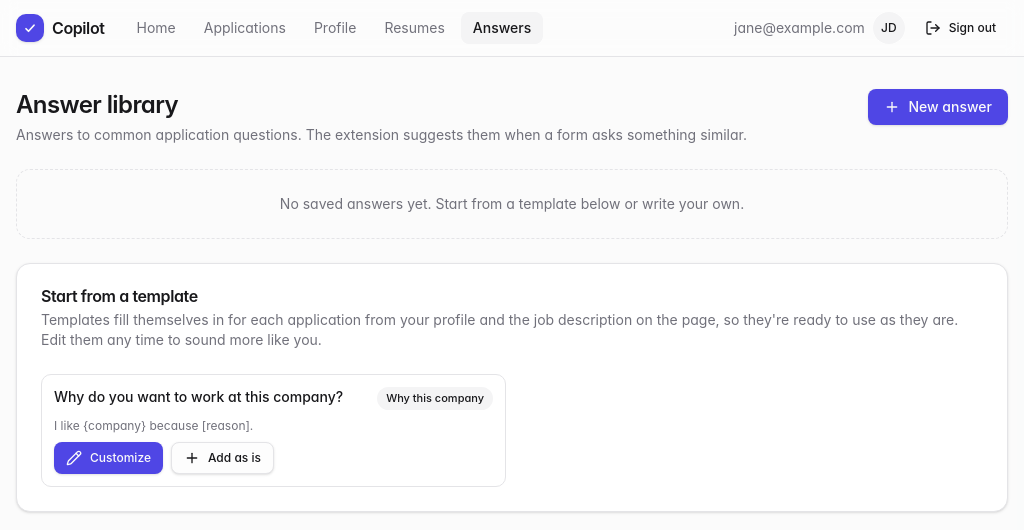
Test case: answer library › adds a template as is
Expected: the text "No saved answers yet. Start from a template below or write your own." is shown, top-left (16, 169), bottom-right (1008, 239)
Click the button "Add as is" at (222, 458), box top-left (171, 442), bottom-right (274, 474)
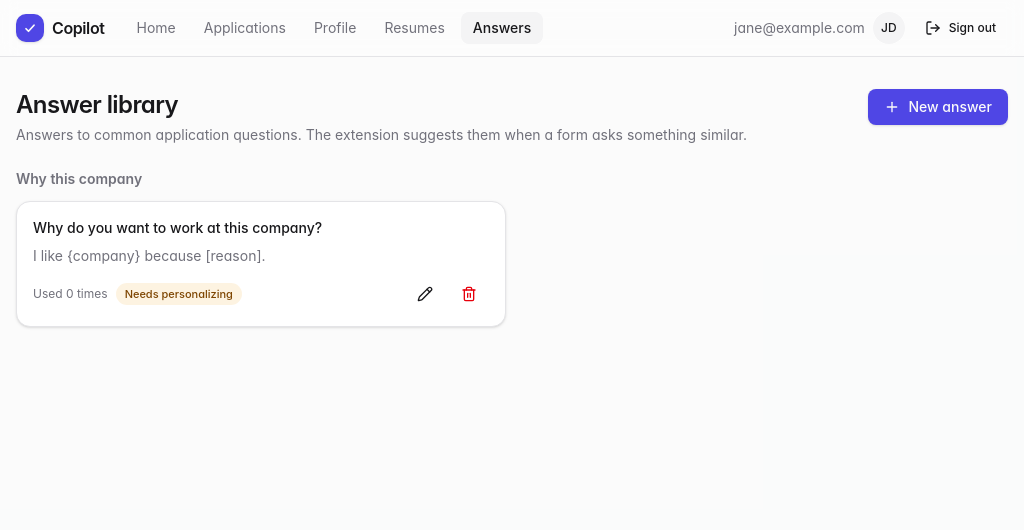
Expected: the text "Needs personalizing" is shown, top-left (116, 283), bottom-right (242, 305)
